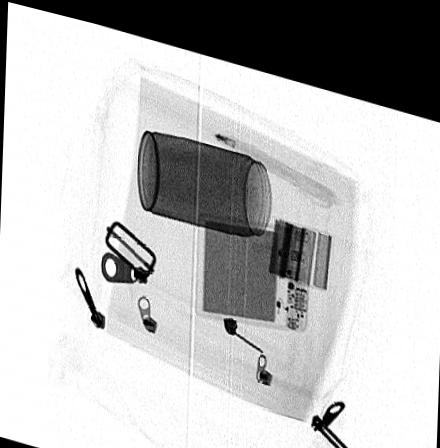Powerbank: (191, 207, 309, 319)
